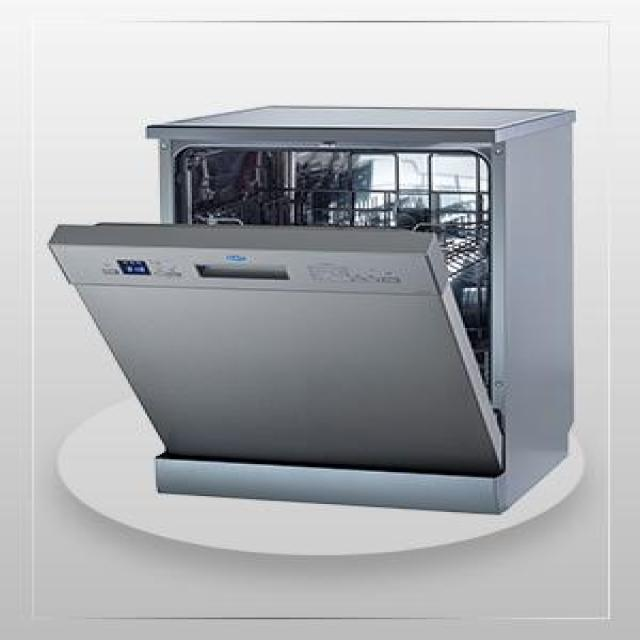dishwasher: (37, 109, 578, 536)
